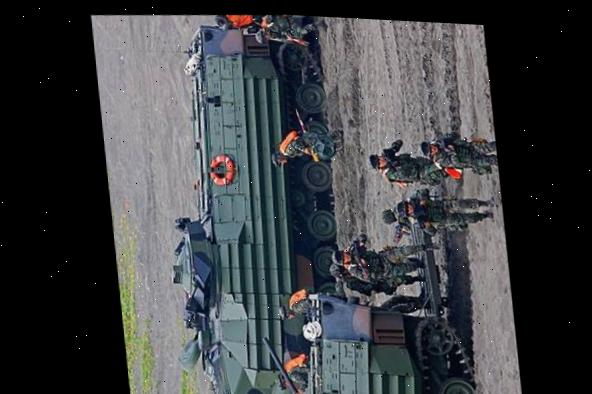armored_car: (144, 7, 356, 394), (280, 274, 477, 394)
